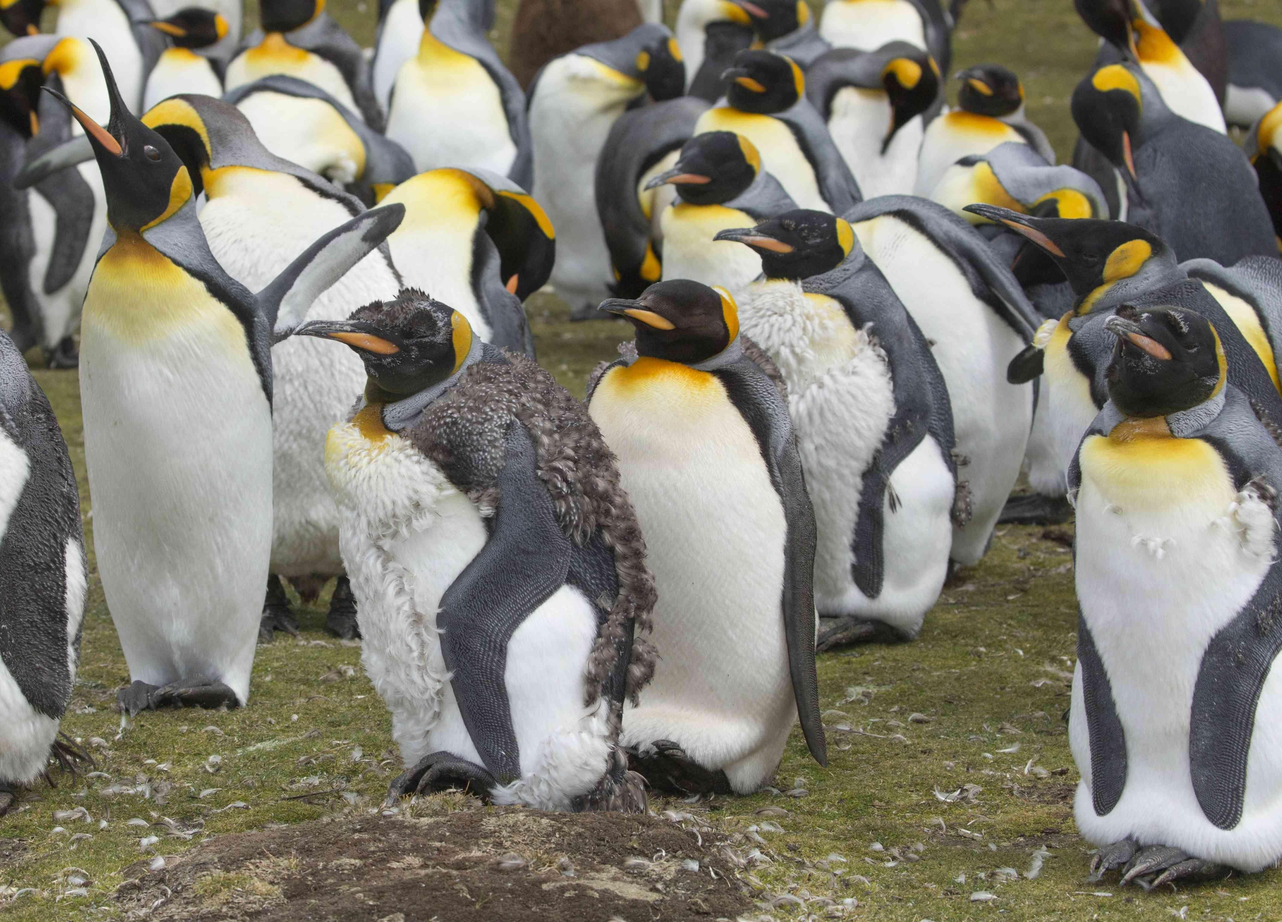Penguin: (42, 37, 400, 713), (298, 288, 656, 811), (1069, 305, 1281, 889), (588, 280, 826, 794), (716, 210, 956, 651), (962, 203, 1281, 475), (843, 194, 1042, 570), (528, 22, 683, 313), (143, 95, 363, 293), (0, 327, 91, 791), (1073, 64, 1280, 267), (0, 35, 110, 368), (386, 168, 556, 358), (381, 0, 533, 194), (266, 338, 363, 640), (696, 50, 861, 215), (221, 73, 417, 210), (646, 130, 796, 293), (595, 94, 713, 299), (222, 0, 383, 135), (806, 40, 941, 198), (1074, 0, 1228, 135), (914, 63, 1056, 200), (0, 0, 166, 116), (508, 0, 666, 102), (931, 142, 1111, 226), (1184, 257, 1281, 397), (818, 0, 950, 77), (138, 6, 231, 110), (673, 0, 765, 104), (1144, 0, 1226, 106), (722, 0, 830, 74), (305, 243, 401, 320), (363, 0, 424, 118), (1222, 19, 1281, 130), (1240, 101, 1281, 243)
